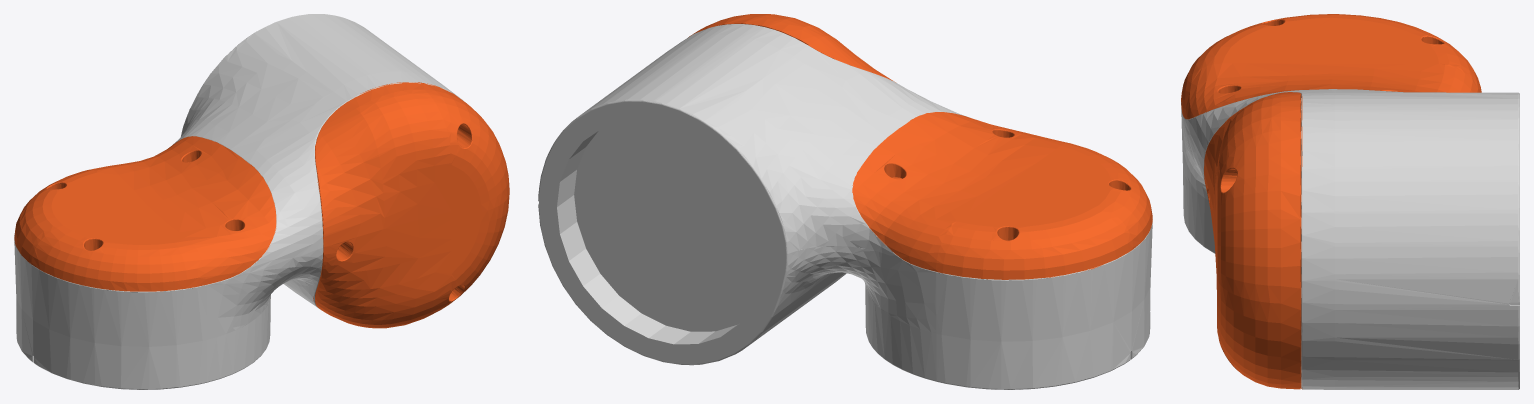
3 renders of one model, left to right at view 1: azimuth 30°, elevation 25°; view 2: azimuth 150°, elevation 25°; view 3: azimuth 270°, elevation 25°, orthographic. The views are drawn at different scales.
Visible parts, largest first — view 1: 8; view 2: 8; view 3: 8.
Part boxes in pixels (bbox=[...]): 8: bbox=[14, 14, 509, 389]; 8: bbox=[538, 14, 1152, 389]; 8: bbox=[1181, 14, 1519, 389].
Size of the model in its own units: 0.1696 by 0.083 by 0.0946.
